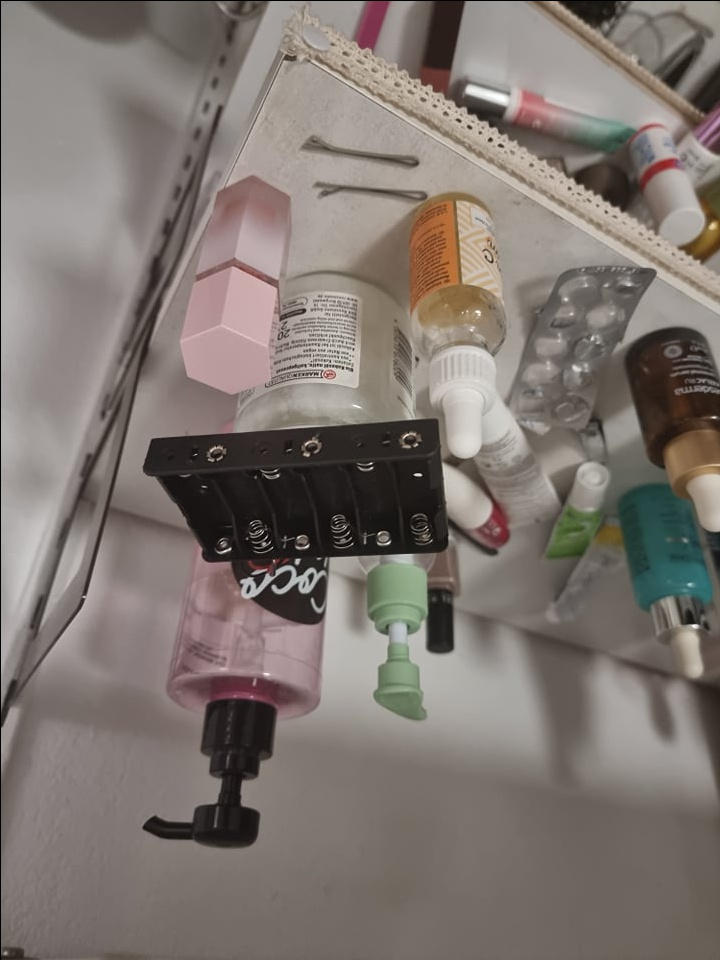BATTERY BOX: (141, 416, 451, 565)
